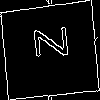Z: (25, 25, 68, 61)
